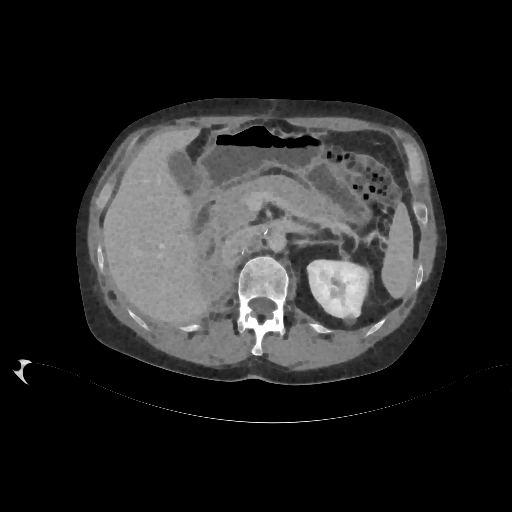Lesion: (341, 314, 360, 328)
